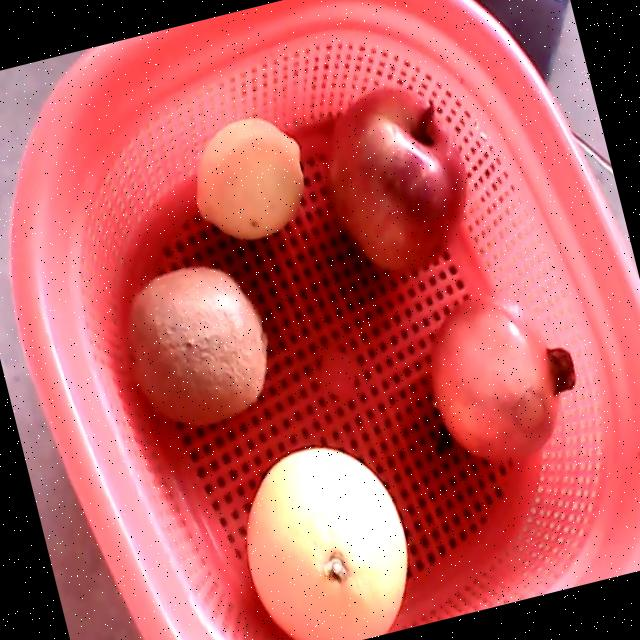apple: (329, 85, 469, 273)
kiwi: (124, 267, 268, 428)
lemon: (196, 117, 304, 241)
orange: (246, 448, 408, 640)
pomegranate: (430, 293, 576, 463)
